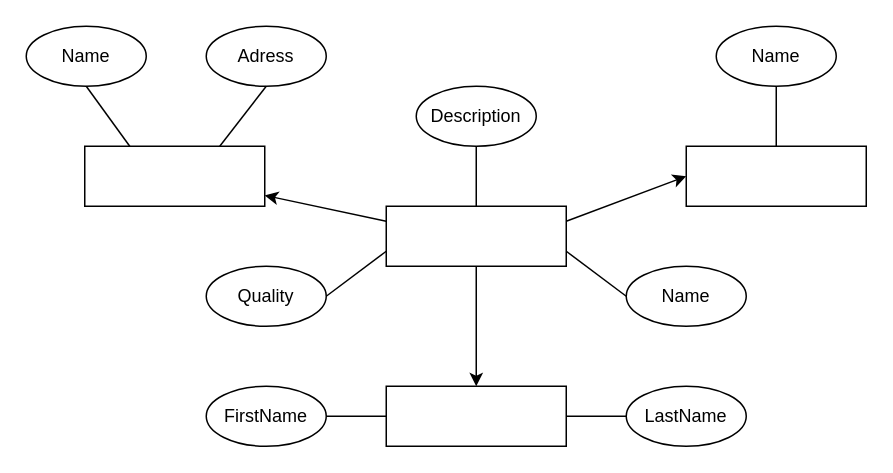
Some shapes in this 893 by 473 pixel diagram are drawn without their labels. The box of each missing label's shape, as (x1, y1, x2, y2) in pixels:
Group: (685, 145, 866, 206)
Storage: (83, 145, 265, 206)
Tool: (385, 205, 566, 266)
Worker: (385, 385, 566, 446)
